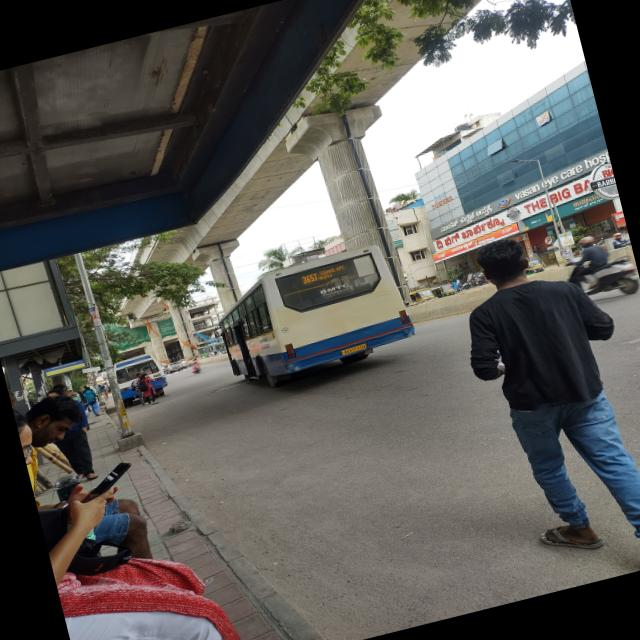bus: (205, 240, 422, 402)
display: (301, 264, 348, 284)
dnumber: (301, 272, 318, 284)
